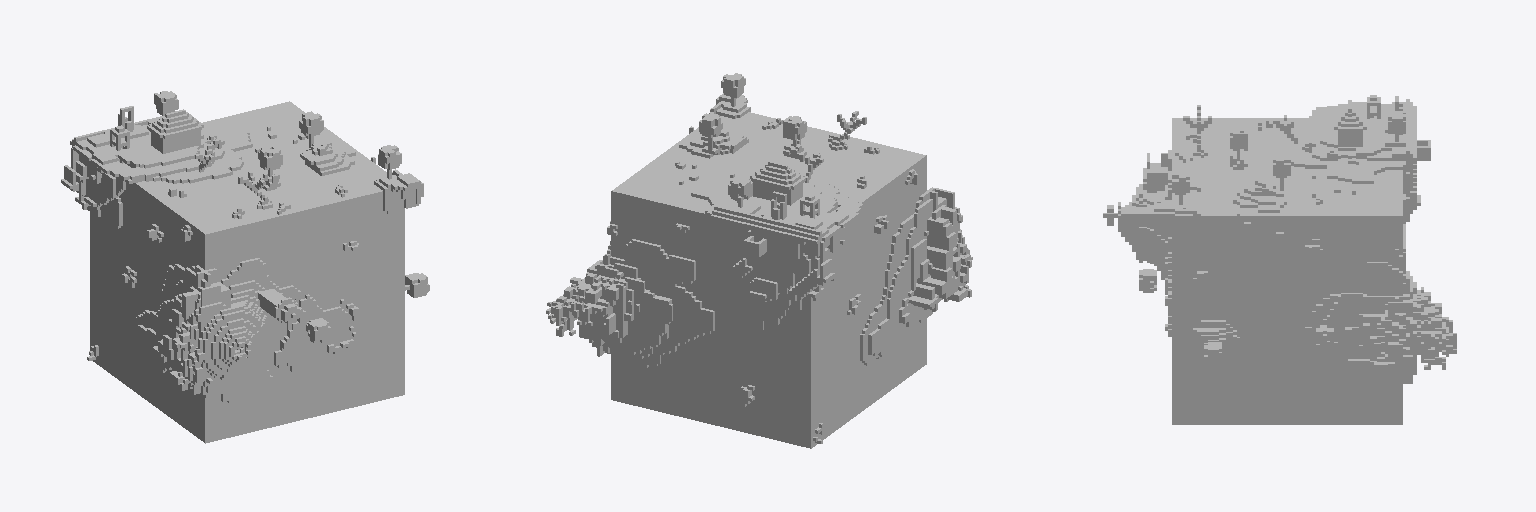
File: 2nd Earth.obj
3 renders of one model, left to right at view 1: azimuth 30°, elevation 25°; view 2: azimuth 150°, elevation 25°; view 3: azimuth 270°, elevation 25°, orthographic.
Bounding box in the file's own units: 89 × 79 × 98.